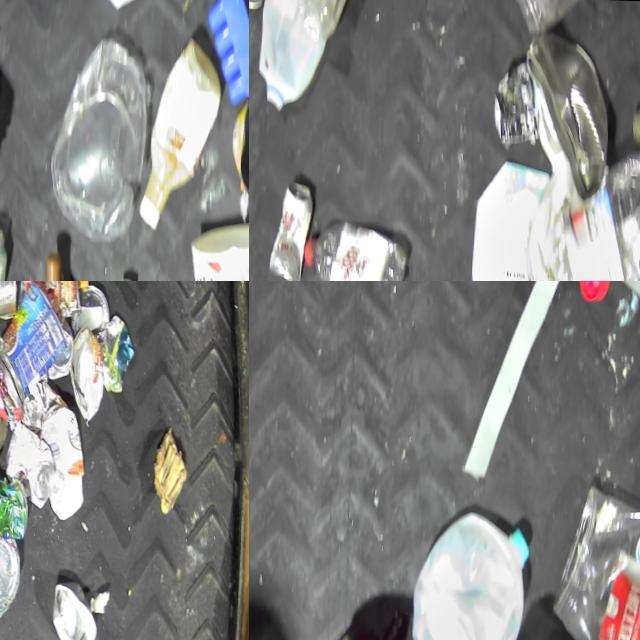can: (520, 31, 614, 202), (0, 281, 68, 403), (268, 178, 314, 281), (3, 421, 56, 509), (492, 61, 542, 148), (68, 325, 105, 422), (49, 582, 99, 640), (14, 281, 81, 316), (71, 284, 111, 336), (0, 536, 22, 623), (229, 97, 249, 192), (0, 475, 27, 540), (47, 318, 74, 382), (0, 329, 11, 451), (0, 281, 18, 329), (249, 0, 275, 10)
milk_jug: (408, 510, 531, 640), (257, 0, 329, 115), (294, 0, 359, 45)
plastic_bottle: (550, 150, 640, 281), (300, 221, 410, 281)
